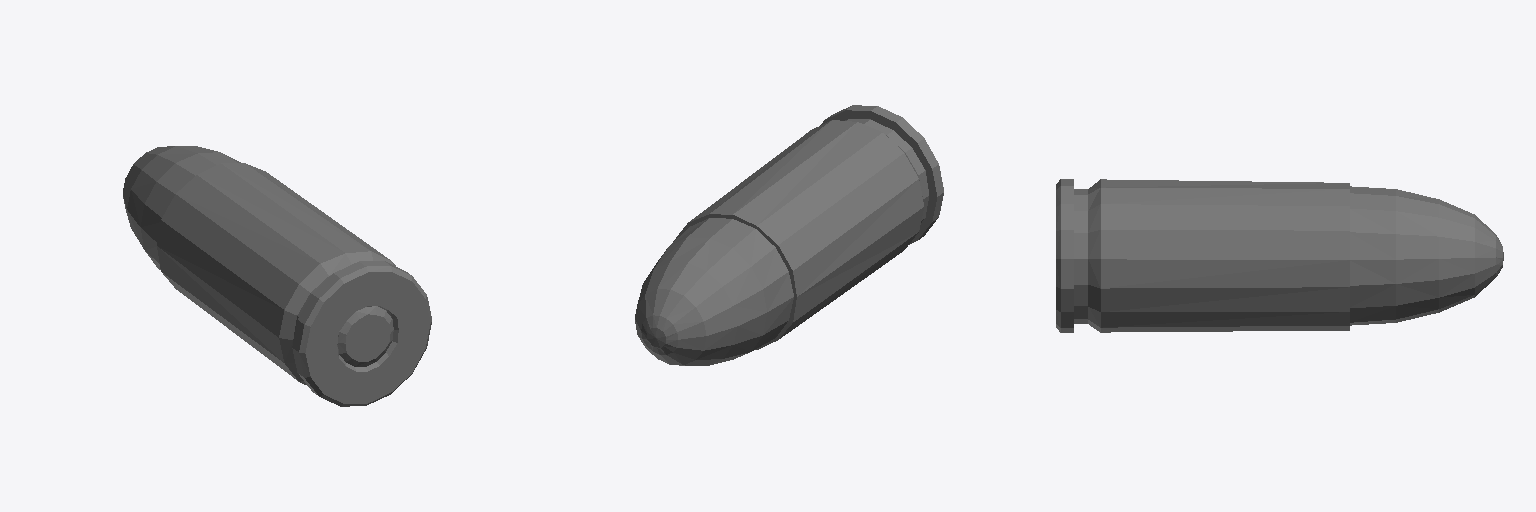
File: bala.obj
3 renders of one model, left to right at view 1: azimuth 30°, elevation 25°; view 2: azimuth 150°, elevation 25°; view 3: azimuth 270°, elevation 25°, orthographic.
Visible parts, largest first — view 1: 9mm_Luger; view 2: 9mm_Luger; view 3: 9mm_Luger.
Part boxes in pixels (left/top/right/bottom): 9mm_Luger: left=123, top=146, right=431, bottom=406; 9mm_Luger: left=635, top=105, right=943, bottom=365; 9mm_Luger: left=1056, top=179, right=1503, bottom=332.
Bounding box in the file's own units: 0.01 × 0.01 × 0.0291.